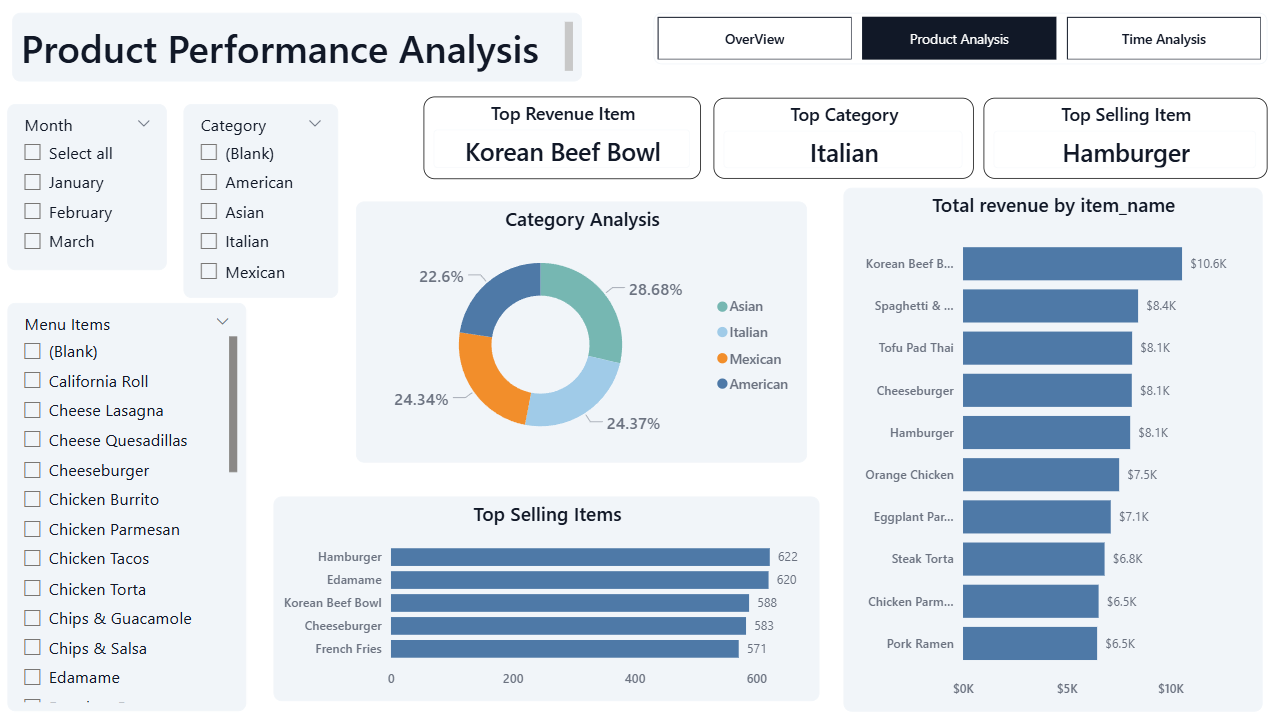

This screenshot's page, from the dashboard's own definition file:
{"tool":"powerbi","page":{"name":"Product Analysis","canvas":[1280,720],"ordinal":1},"visuals":[{"type":"slicer","fields":{"Values":["DateTable.Month Name"]},"box":[15.9,107.5,156.4,162.5],"z":0},{"type":"slicer","fields":{"Values":["restaurant_db menu_items.category"]},"box":[188.1,107.5,151.5,189.3],"z":1000},{"type":"slicer","fields":{"Values":["restaurant_db menu_items.item_name"]},"box":[15.9,301.7,233.3,399.5],"z":2000},{"type":"textbox","box":[20.8,18.3,557.1,67.2],"z":3000},{"type":"barChart","title":"Top Selling Items","fields":{"Category":["restaurant_db menu_items.item_name"],"Y":["restaurant_db menu_items.Items Sold"]},"box":[276.1,491.1,533.8,200.3],"z":4000},{"type":"barChart","fields":{"Y":["restaurant_db menu_items.Total revenue"],"Category":["restaurant_db menu_items.item_name"]},"box":[833.1,189.3,409.2,511.9],"z":5000},{"type":"cardVisual","title":"Top Selling Item","fields":{"Data":["restaurant_db menu_items.Top Selling Item"]},"box":[970,101.4,277.3,79.4],"z":6000},{"type":"cardVisual","title":"Top Revenue Item","fields":{"Data":["restaurant_db menu_items.Top Revenue Item"]},"box":[422.7,100.2,271.2,80.6],"z":7000},{"type":"cardVisual","title":"Top Category","fields":{"Data":["restaurant_db menu_items.Top Category"]},"box":[706.1,101.4,254.1,79.4],"z":8000},{"type":"donutChart","title":"Category Analysis","fields":{"Category":["restaurant_db menu_items.category"],"Y":["restaurant_db menu_items.Items Sold"]},"box":[356.7,202.8,441,255.3],"z":9000},{"type":"pageNavigator","box":[647.5,18.3,599.8,50.1],"z":10000}]}

Visuals, with their boxes in screenshot pixels (x1, y1, x2, y2), scaled from the page's 1280x720 canvas onto the 1286x723 screenshot:
slicer - DateTable.Month Name: 16 108 173 271
slicer - restaurant_db menu_items.category: 189 108 341 298
slicer - restaurant_db menu_items.item_name: 16 303 250 704
textbox: 21 18 581 86
"Top Selling Items" barChart: 277 493 814 694
barChart - restaurant_db menu_items.Total revenue x restaurant_db menu_items.item_name: 837 190 1248 704
"Top Selling Item" cardVisual: 975 102 1253 182
"Top Revenue Item" cardVisual: 425 101 697 182
"Top Category" cardVisual: 709 102 965 182
"Category Analysis" donutChart: 358 204 801 460
pageNavigator: 651 18 1253 69
